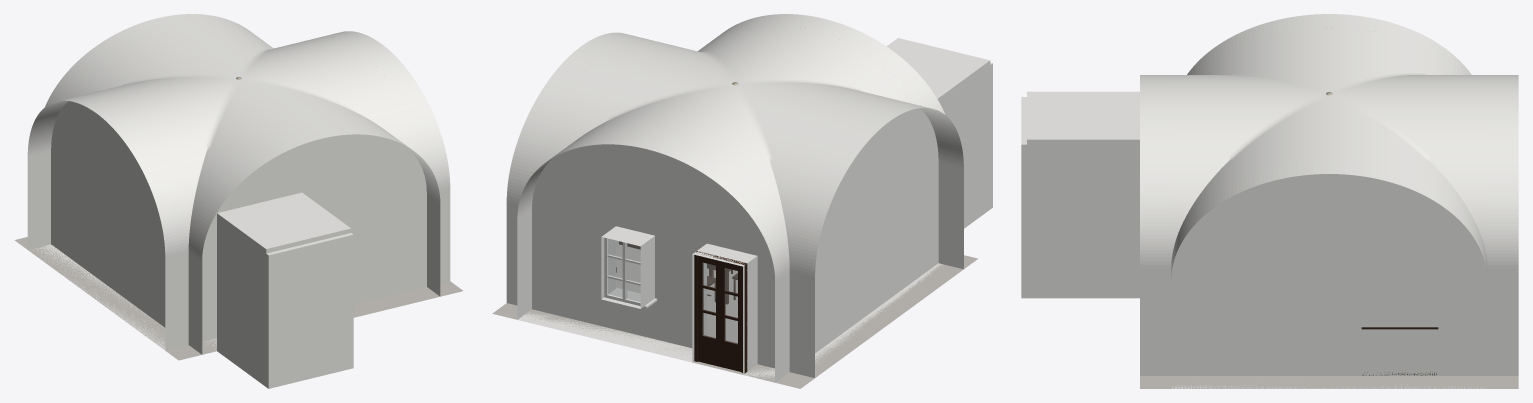
The model's file is wnetrze.glb.
3 renders of one model, left to right at view 1: azimuth 30°, elevation 25°; view 2: azimuth 150°, elevation 25°; view 3: azimuth 270°, elevation 25°, orthographic. The views are drawn at different scales.
Visible parts, largest first — view 1: Sklepienie, Sciana_W, Sciana_S, Korytarz, Sciana_E, Podloga, Sciana_N; view 2: Sciana_N, Sklepienie, Sciana_W, Meble, Korytarz, Podloga, Sciana_E, Sciana_S; view 3: Sciana_E, Sklepienie, Korytarz, Sciana_N, Sciana_S, Podloga, Sciana_W.
Part boxes in pixels (x1,y1,x2,y2): Sklepienie: (68,24,422,246); Sciana_W: (27,95,188,350); Sciana_S: (188,124,440,354); Korytarz: (217,192,353,388); Sciana_E: (320,31,450,283); Podloga: (14,237,462,360); Sciana_N: (45,14,258,106); Sciana_N: (517,133,789,382); Sklepienie: (536,24,919,266); Sciana_W: (789,101,963,377); Meble: (604,82,747,373); Korytarz: (886,38,992,228); Podloga: (492,245,977,388); Sciana_E: (506,32,647,305); Sciana_S: (712,14,945,114); Sciana_E: (1171,160,1487,388); Sklepienie: (1171,27,1487,266); Korytarz: (1021,91,1139,298); Sciana_N: (1487,75,1518,375); Sciana_S: (1140,75,1170,375); Podloga: (1140,376,1518,388); Sciana_W: (1187,14,1471,74).
Size of the model in its own units: 6.7 by 4.22 by 8.8.
